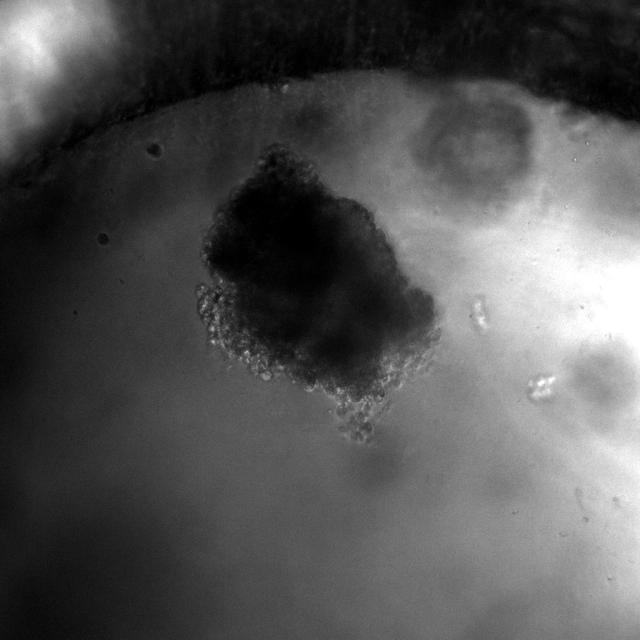organoid: (196, 143, 439, 442), (146, 141, 162, 159), (96, 232, 109, 245)
